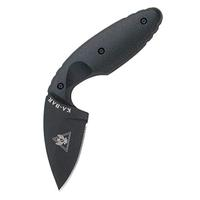knife: (41, 2, 158, 192)
